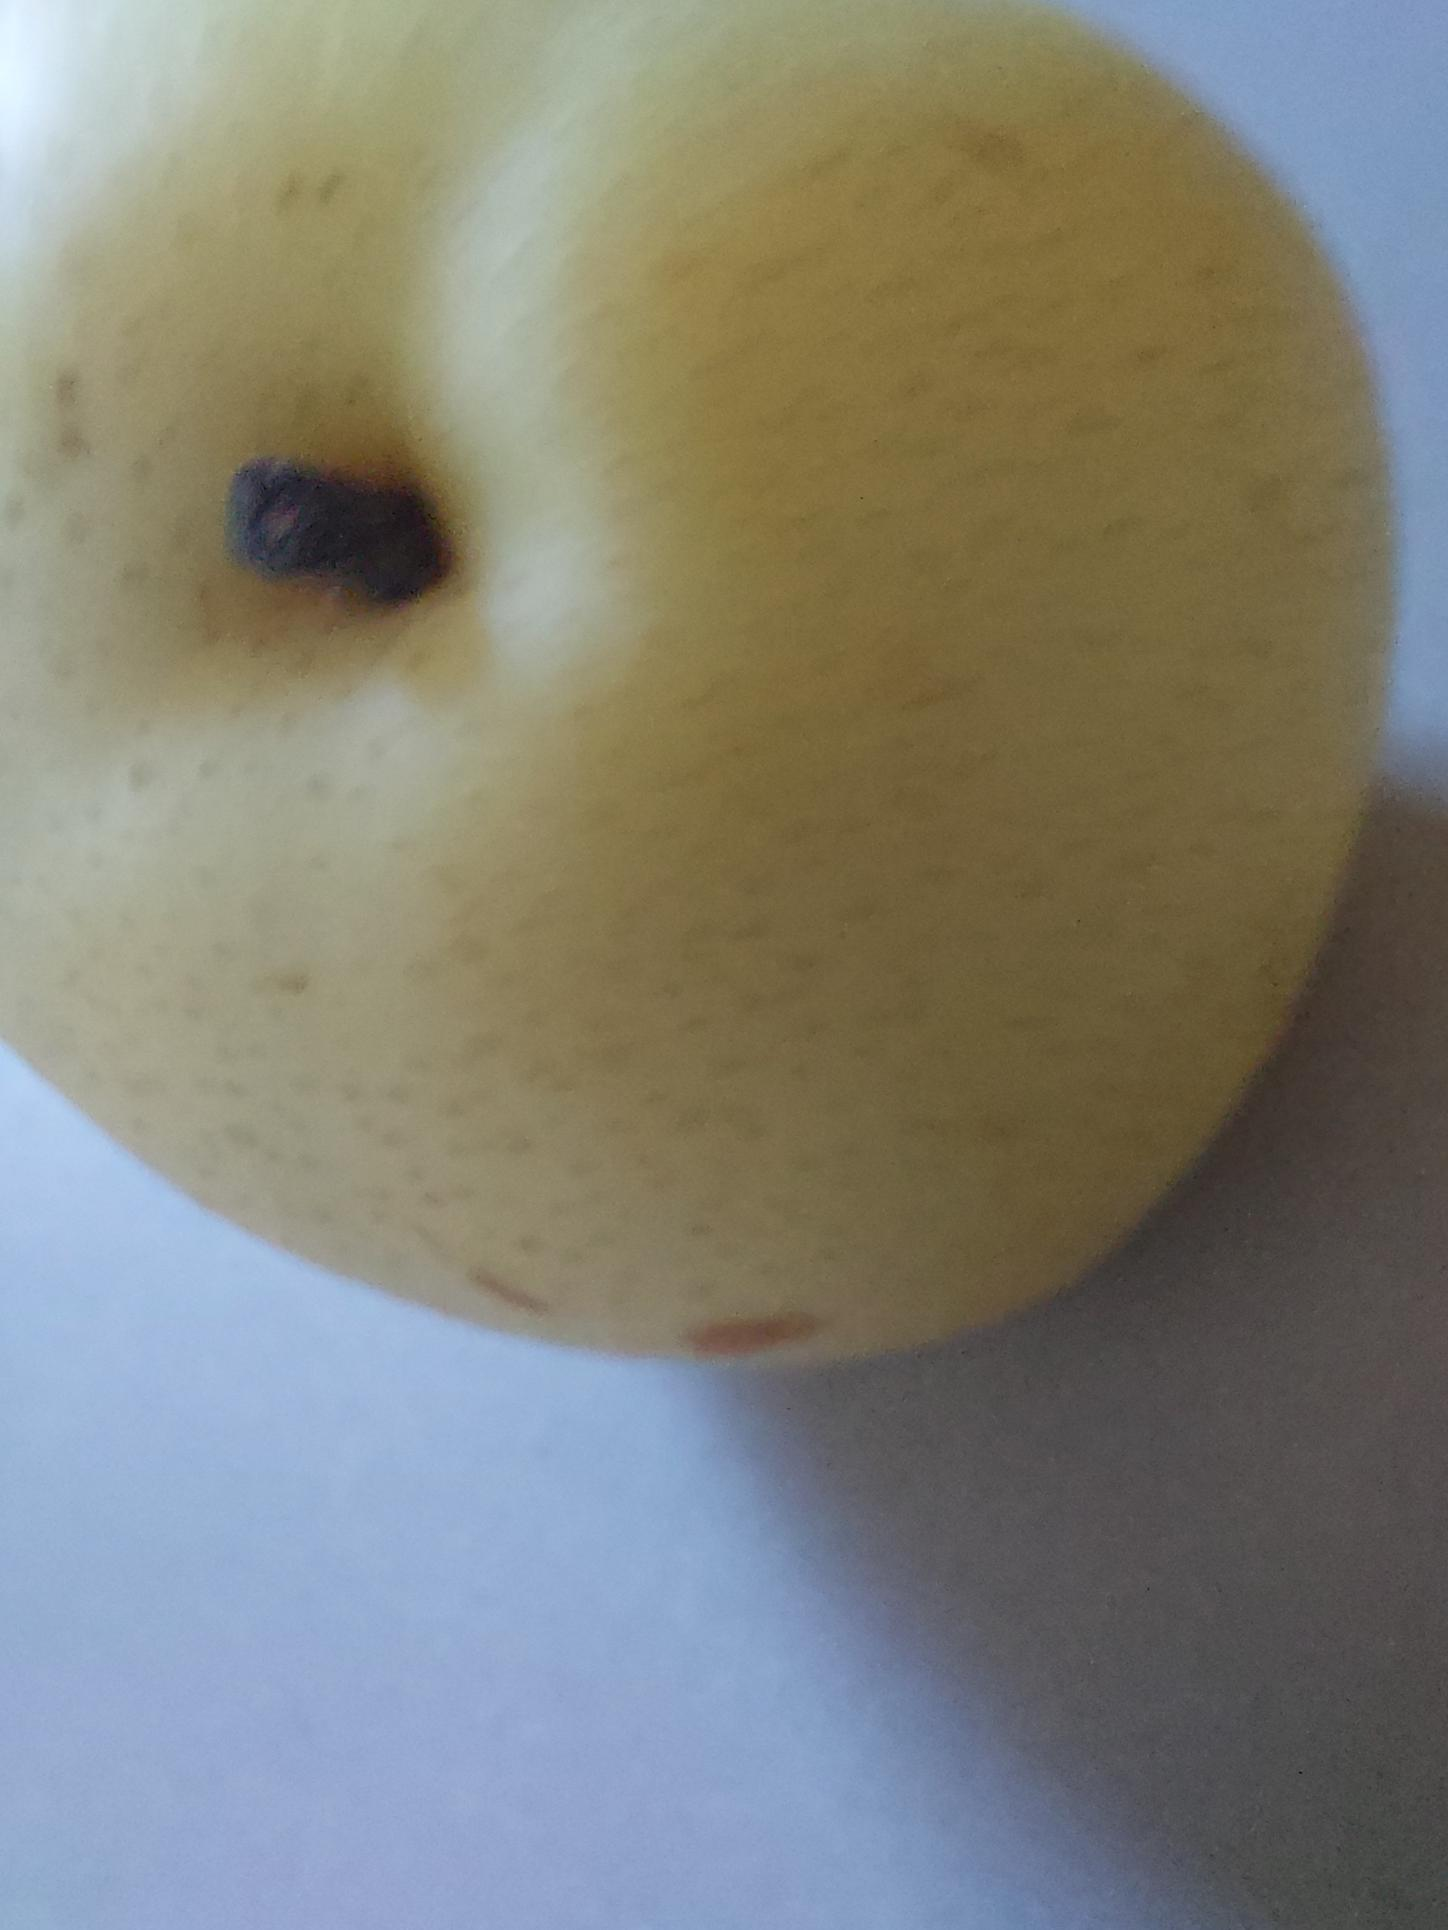Good Pear: (0, 0, 1401, 1398)
